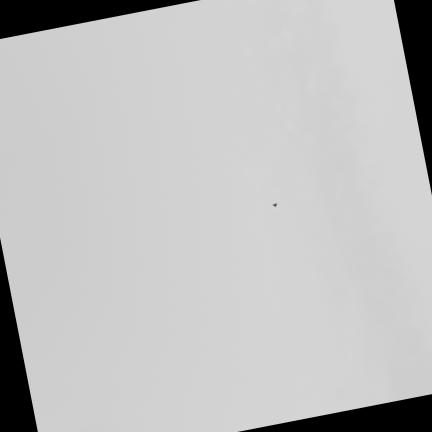Shahed: (272, 202, 277, 206)
